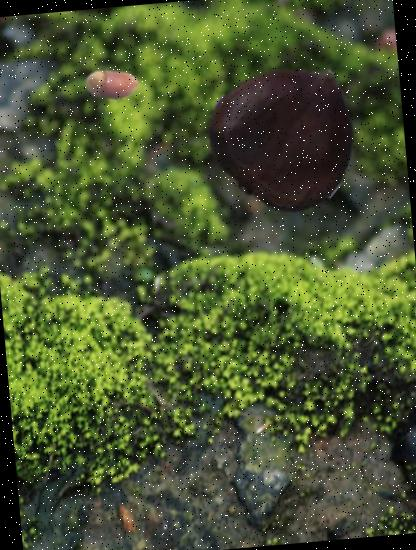Chestnut: (208, 51, 369, 212)
Hazelnut: (82, 55, 141, 114)
